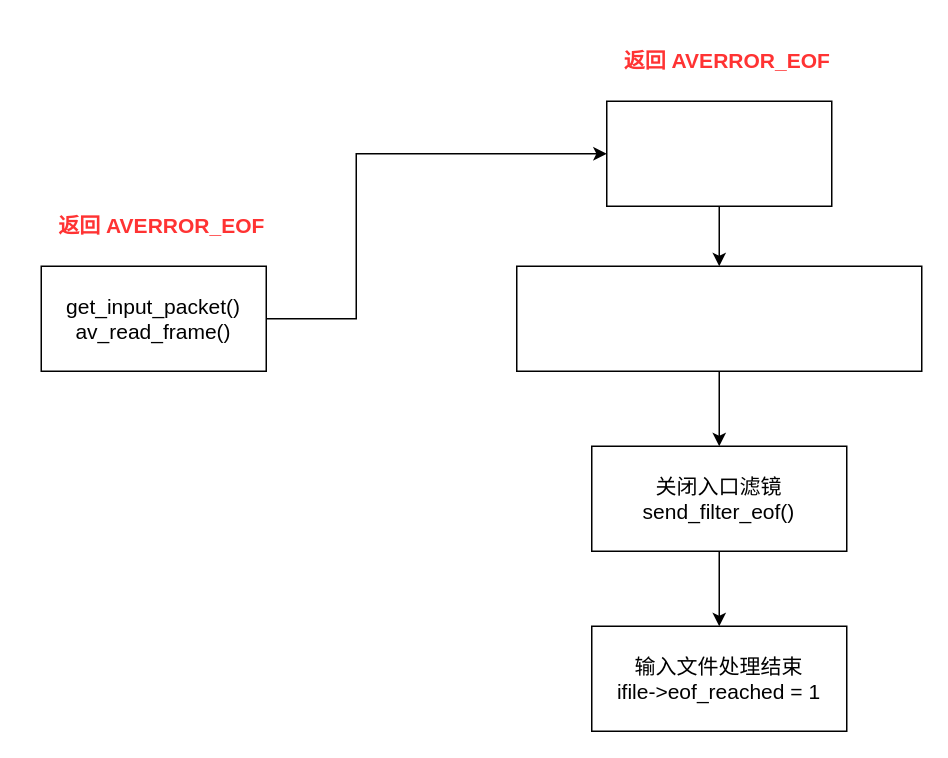
The diagram is 948 pixels wide and 758 high, and some of its shapes have lost their labels. Here are the shapes that lost their labels. From the top down, the box of each, then its label:
(605, 100, 832, 206): decode_video() decode_audio() decode()
(515, 265, 922, 371): 冲刷解码器，让解码器吐出来所有的数据 process_input_packet(ist,NULL,0)
